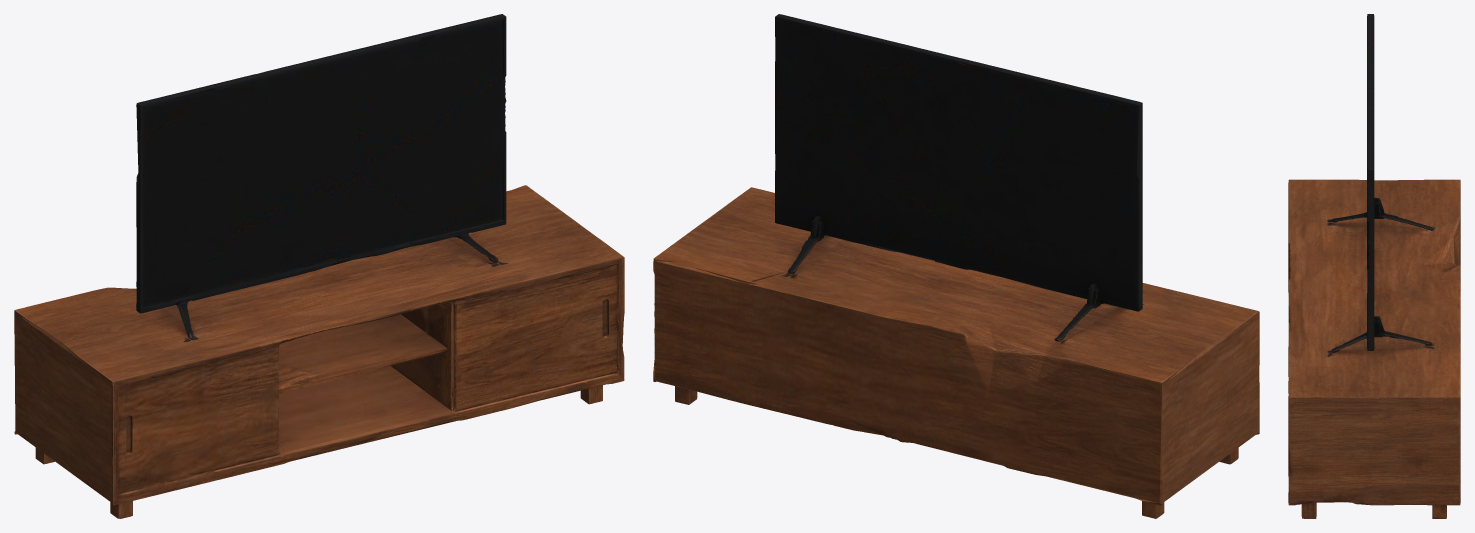
Rendered from w4tvconsole.glb.
3 renders of one model, left to right at view 1: azimuth 30°, elevation 25°; view 2: azimuth 150°, elevation 25°; view 3: azimuth 270°, elevation 25°, orthographic. The views are drawn at different scales.
Parts seen in each view (by area): view 1: output_unwrapped; view 2: output_unwrapped; view 3: output_unwrapped.
Boxes of the visible parts, <box> form: output_unwrapped: <box>14,14,624,518</box>; output_unwrapped: <box>653,14,1259,518</box>; output_unwrapped: <box>1288,14,1460,518</box>.
Size of the model in its own units: 1.5 by 1.04 by 0.5005.
1 material, 1 textured.
